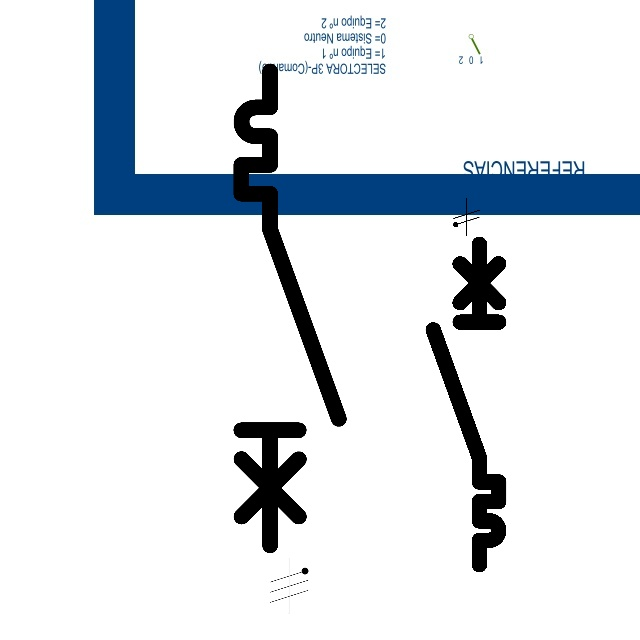interruptor_termomagnetico: (229, 59, 351, 558), (425, 236, 507, 573)
